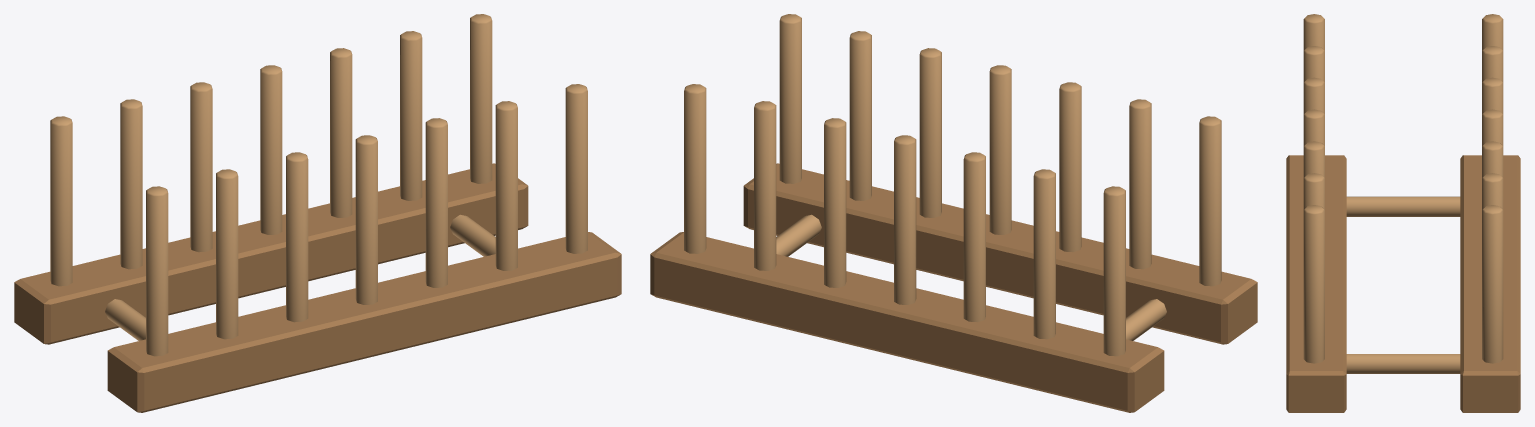
Rendered from plate_holder.obj.
The picture shows the model from 3 angles, left to right: view 1: azimuth 30°, elevation 25°; view 2: azimuth 150°, elevation 25°; view 3: azimuth 270°, elevation 25°; orthographic projection. The views are drawn at different scales.
Visible parts, largest first — view 1: plate_holder.001; view 2: plate_holder.001; view 3: plate_holder.001.
Part boxes in pixels (x1,y1,x2,y2): plate_holder.001: (14,14,621,412); plate_holder.001: (650,14,1257,412); plate_holder.001: (1286,14,1520,412).
Size of the model in its own units: 0.239 by 0.0971 by 0.1074.
